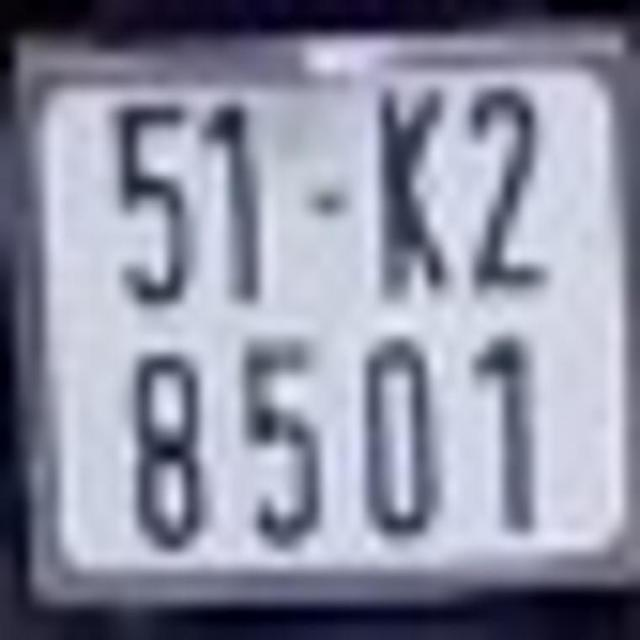0: (356, 330, 446, 536)
1: (464, 325, 555, 538), (199, 93, 273, 306)
2: (464, 76, 556, 300)
5: (235, 329, 337, 552), (104, 94, 196, 308)
8: (127, 343, 212, 547)
K: (366, 77, 456, 312)
